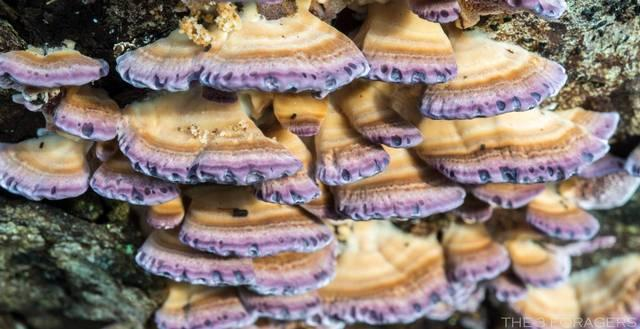poisonous_mushroom: (1, 1, 637, 327)
